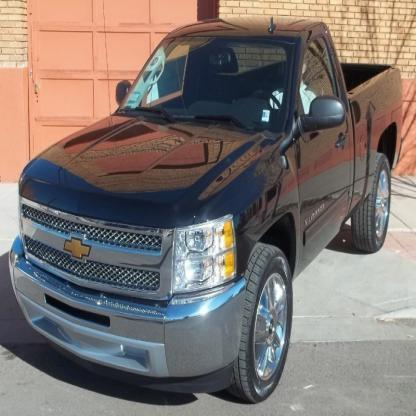Vehicle: (9, 18, 404, 406)
